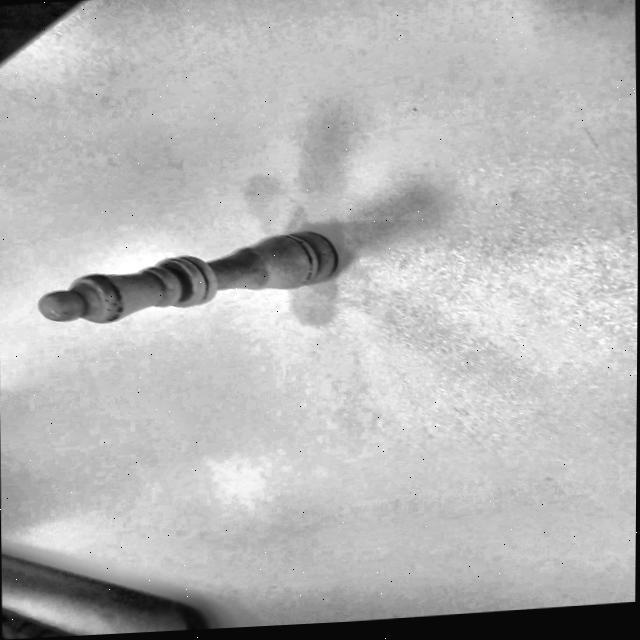white-queen: (6, 227, 371, 336)
